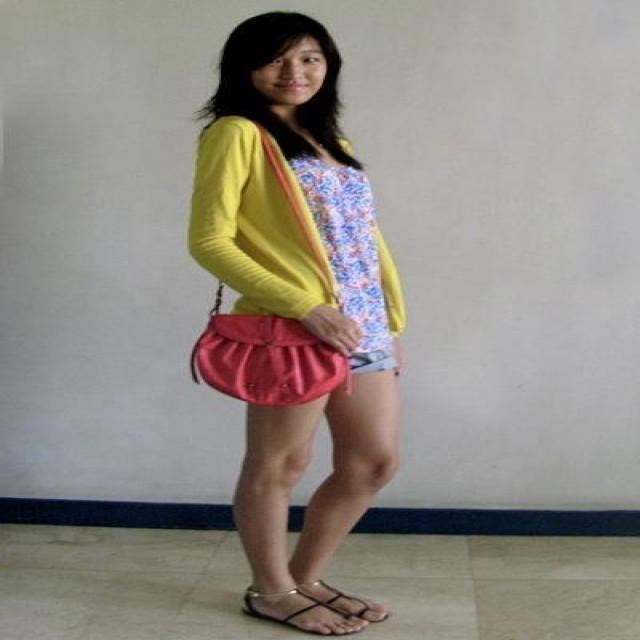bag: (190, 298, 372, 408)
dress: (288, 148, 392, 360)
jacket: (188, 98, 406, 332)
shoe: (250, 584, 363, 634)
